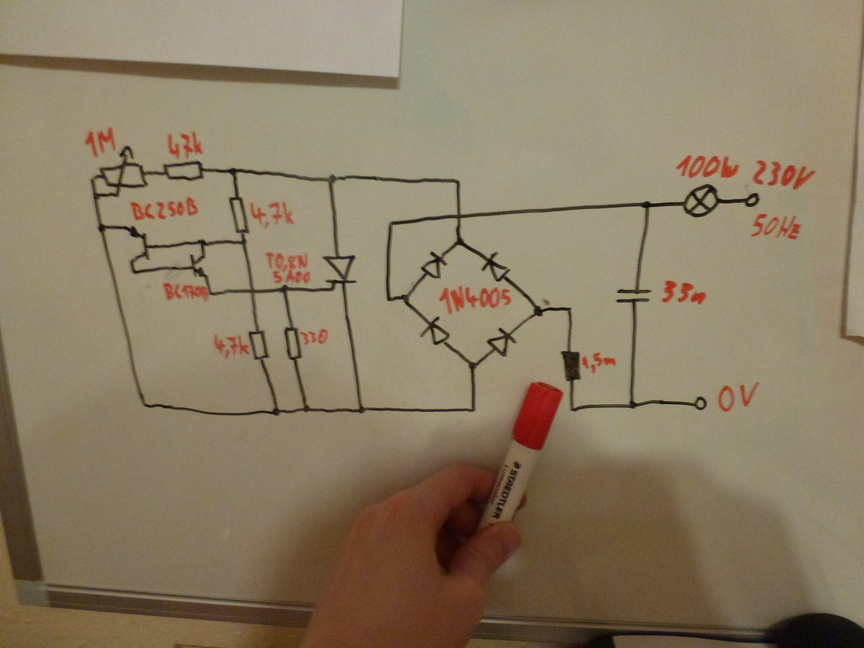capacitor.unpolarized: (614, 279, 654, 312)
crossover: (245, 284, 261, 298), (452, 211, 466, 222)
diode: (485, 326, 519, 359), (479, 250, 512, 283), (419, 316, 452, 348), (418, 249, 449, 282)
inductor: (558, 346, 583, 385)
junction: (529, 303, 546, 319), (463, 357, 481, 372), (323, 170, 339, 186), (353, 403, 370, 418), (637, 197, 655, 211), (625, 397, 640, 412), (269, 405, 285, 419), (299, 402, 315, 416), (196, 235, 210, 249), (226, 164, 240, 178), (450, 175, 465, 188), (276, 285, 292, 297), (399, 290, 412, 304), (452, 235, 466, 248), (567, 403, 581, 416), (467, 404, 481, 416), (564, 304, 577, 316), (237, 237, 251, 248), (139, 401, 151, 412), (95, 223, 108, 233), (384, 293, 394, 305), (129, 267, 141, 277), (87, 174, 99, 184), (385, 219, 396, 229), (207, 289, 217, 298), (90, 190, 99, 199)
lamp: (681, 183, 723, 221)
resistor: (162, 159, 209, 184), (225, 193, 250, 234), (282, 325, 304, 364), (248, 328, 271, 364)
resistor.adjustable: (100, 146, 149, 199)
terminal: (690, 393, 711, 415), (743, 191, 764, 211)
text: (438, 284, 513, 315), (751, 158, 816, 191), (128, 195, 201, 223), (673, 153, 740, 182), (262, 250, 314, 285), (657, 276, 709, 310), (748, 212, 801, 245), (714, 379, 763, 414), (248, 199, 298, 230), (164, 130, 207, 161), (212, 332, 251, 362), (83, 125, 117, 158), (160, 281, 211, 303), (580, 352, 618, 375), (299, 327, 330, 347)
thyristor: (317, 249, 365, 294)
transistor: (120, 223, 157, 265), (186, 251, 213, 280)
